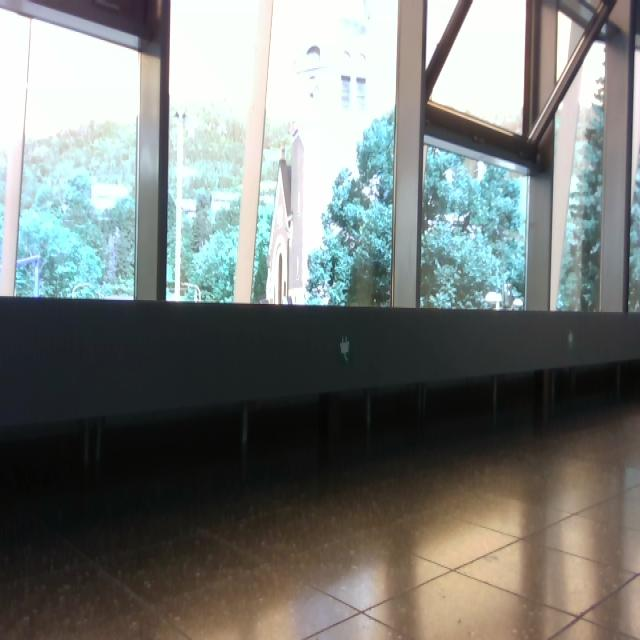light bulb: (306, 45, 322, 98), (340, 50, 353, 108), (355, 53, 368, 104), (472, 160, 486, 182), (464, 157, 478, 178), (444, 169, 454, 182)
pillar: (233, 1, 274, 304), (391, 1, 428, 308)
tiled floor: (2, 399, 639, 639)
window: (1, 1, 640, 316), (1, 6, 141, 300)
